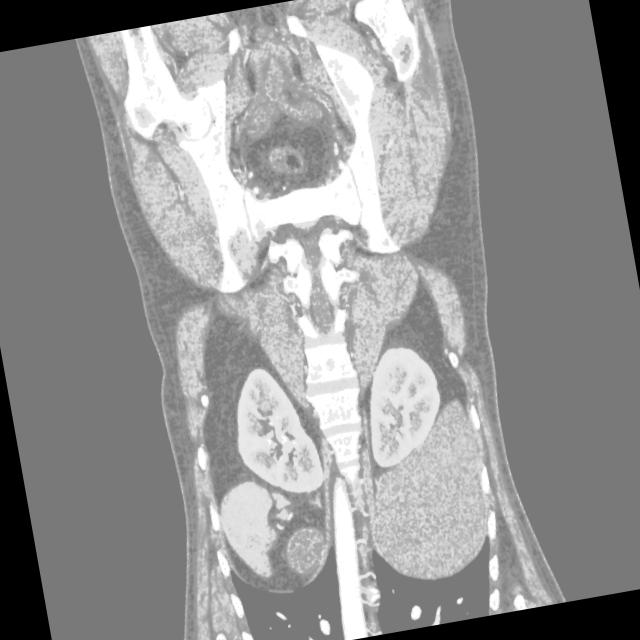NORMAL: (79, 67, 556, 615)
